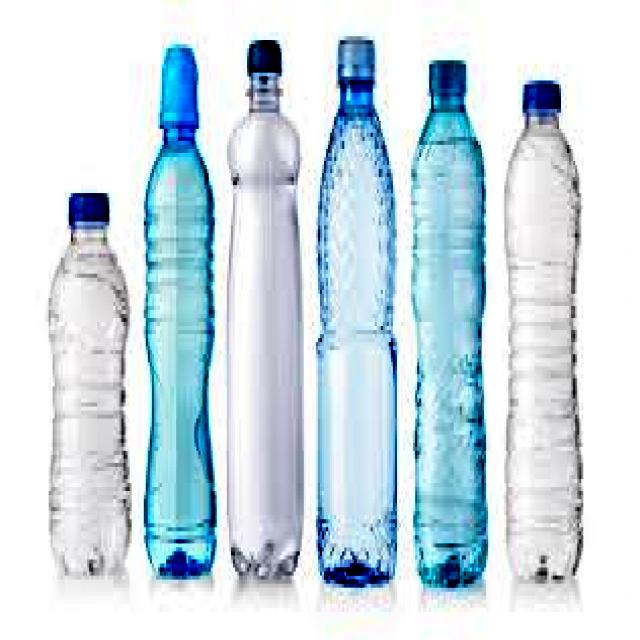Plastic: (315, 33, 398, 590), (225, 36, 306, 582), (500, 77, 586, 587), (140, 36, 220, 584), (409, 53, 490, 594), (45, 190, 134, 585)
